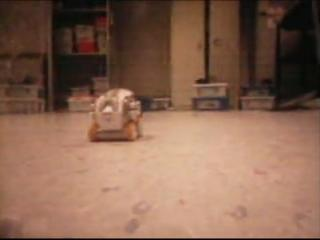cozmo: (86, 87, 144, 142)
